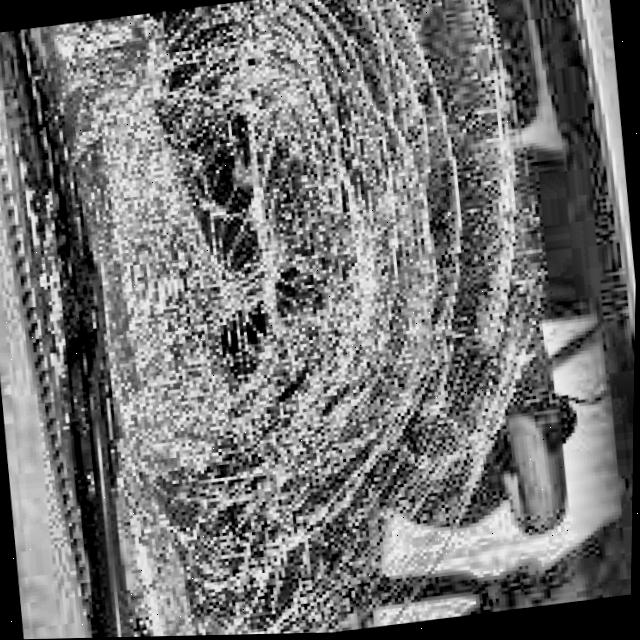glass_shatter: (135, 0, 405, 400)
